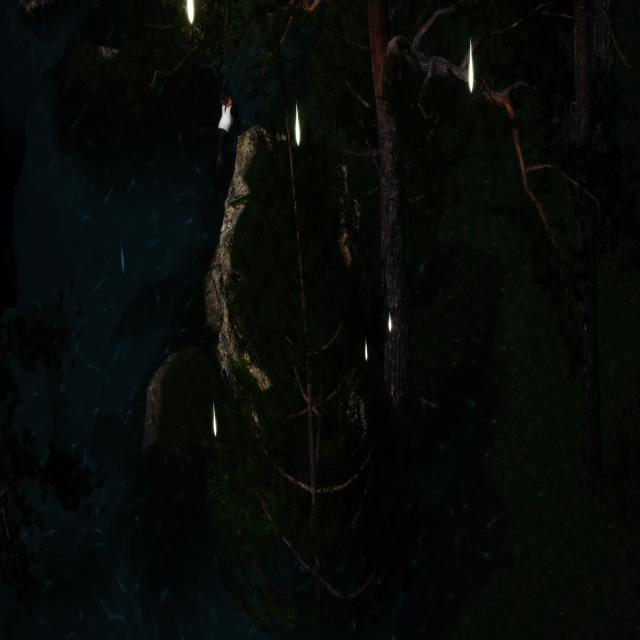Human: (178, 82, 244, 166)
